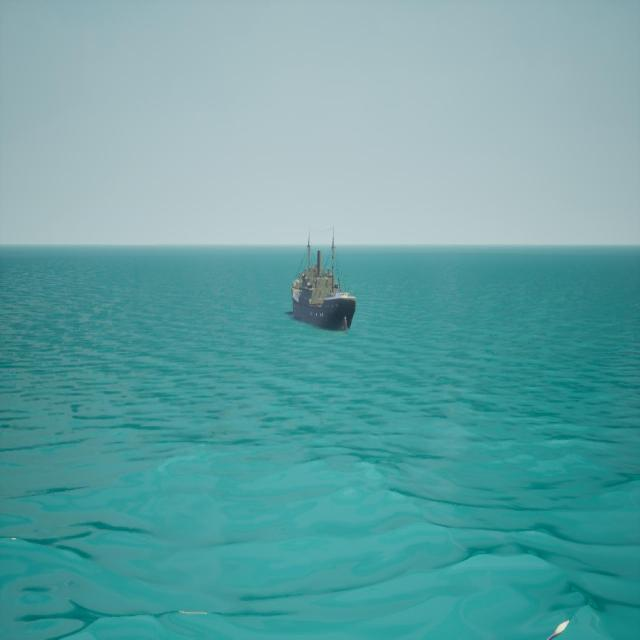fishing ship: (289, 229, 355, 335)
